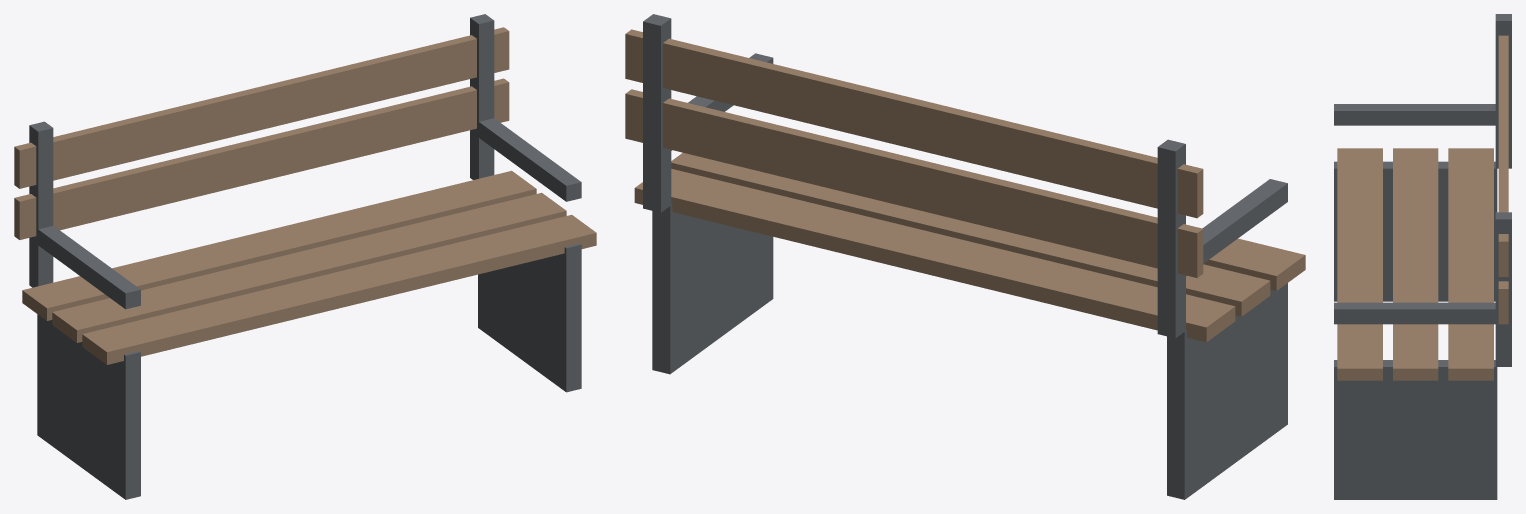
The model's file is bench.glb.
The picture shows the model from 3 angles, left to right: view 1: azimuth 30°, elevation 25°; view 2: azimuth 150°, elevation 25°; view 3: azimuth 270°, elevation 25°; orthographic projection. The views are drawn at different scales.
Visible parts, largest first — view 1: walnut, c23262a_0.45_0.5; view 2: walnut, c23262a_0.45_0.5; view 3: c23262a_0.45_0.5, walnut.
Boxes of the visible parts, bbox=[...] form: walnut: bbox=[14, 27, 596, 364]; c23262a_0.45_0.5: bbox=[29, 14, 581, 499]; walnut: bbox=[625, 29, 1305, 342]; c23262a_0.45_0.5: bbox=[643, 14, 1287, 499]; c23262a_0.45_0.5: bbox=[1334, 14, 1511, 499]; walnut: bbox=[1337, 35, 1508, 380].
Bounding box in the file's own units: 1.6 × 0.95 × 0.545.
